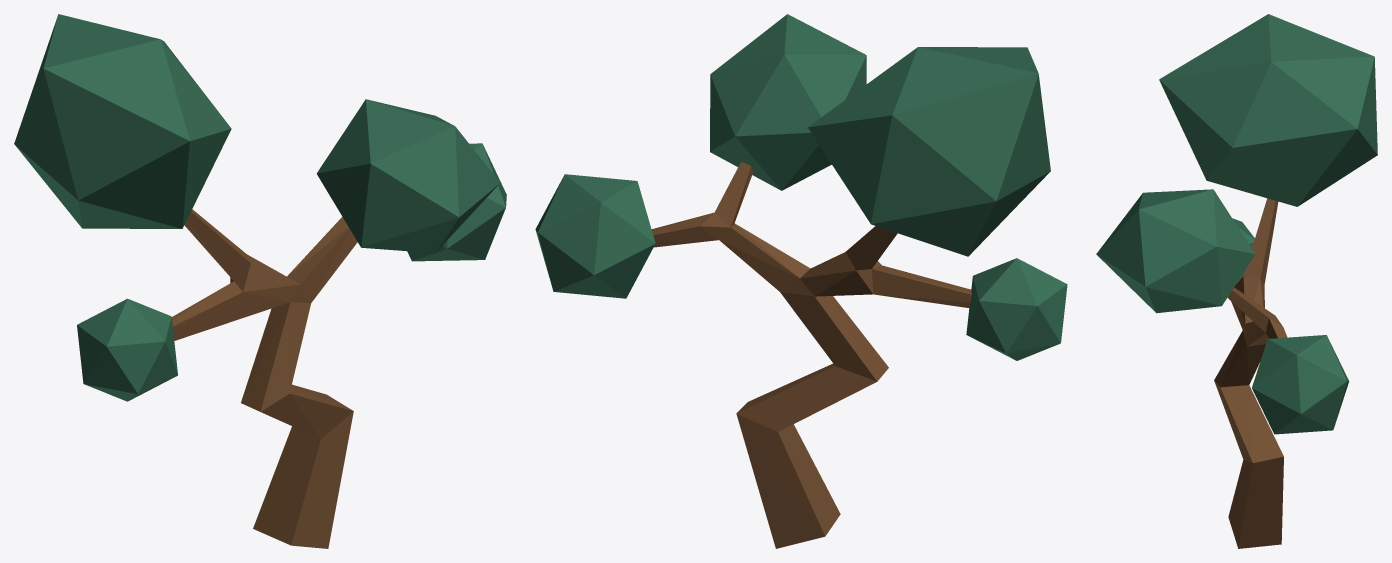
The model's file is tree.gltf.
The picture shows the model from 3 angles, left to right: view 1: azimuth 30°, elevation 25°; view 2: azimuth 150°, elevation 25°; view 3: azimuth 270°, elevation 25°; orthographic projection. The views are drawn at different scales.
Visible parts, largest first — view 1: leaf1, branch0, leaf2, leaf0, leaf3; view 2: leaf1, branch0, leaf2, leaf3, leaf0; view 3: leaf1, leaf2, branch0, leaf3.
Part boxes in pixels (x1,y1,x2,y2): leaf1: (14, 14, 231, 228); branch0: (171, 209, 357, 548); leaf2: (316, 99, 499, 253); leaf0: (77, 298, 177, 401); leaf3: (407, 143, 506, 261); leaf1: (808, 47, 1050, 256); branch0: (651, 161, 971, 548); leaf2: (710, 14, 866, 190); leaf3: (535, 174, 655, 298); leaf0: (966, 258, 1067, 360); leaf1: (1159, 14, 1377, 206); leaf2: (1096, 189, 1255, 313); branch0: (1214, 198, 1287, 548); leaf3: (1252, 335, 1349, 434).
Bounding box in the file's own units: 6.17 × 6.48 × 3.85.
